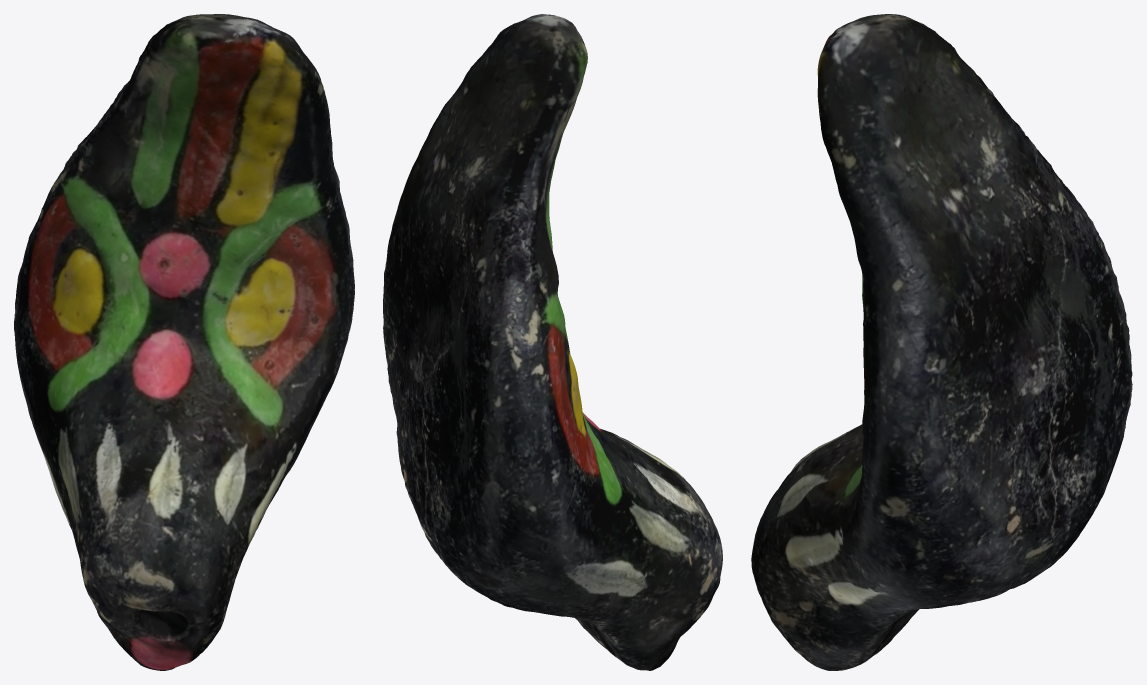
The picture shows the model from 3 angles, left to right: view 1: azimuth 30°, elevation 25°; view 2: azimuth 150°, elevation 25°; view 3: azimuth 270°, elevation 25°; orthographic projection. The views are drawn at different scales.
Size of the model in its own units: 0.2983 by 0.6092 by 0.3076.
1 material, 1 textured.
